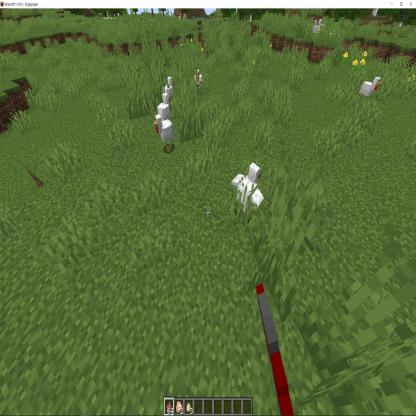minecraft-pigs: (230, 160, 264, 224), (153, 114, 178, 155), (359, 72, 382, 111), (154, 90, 174, 113), (162, 76, 175, 100), (193, 66, 204, 94), (310, 16, 320, 39), (318, 19, 326, 35)
